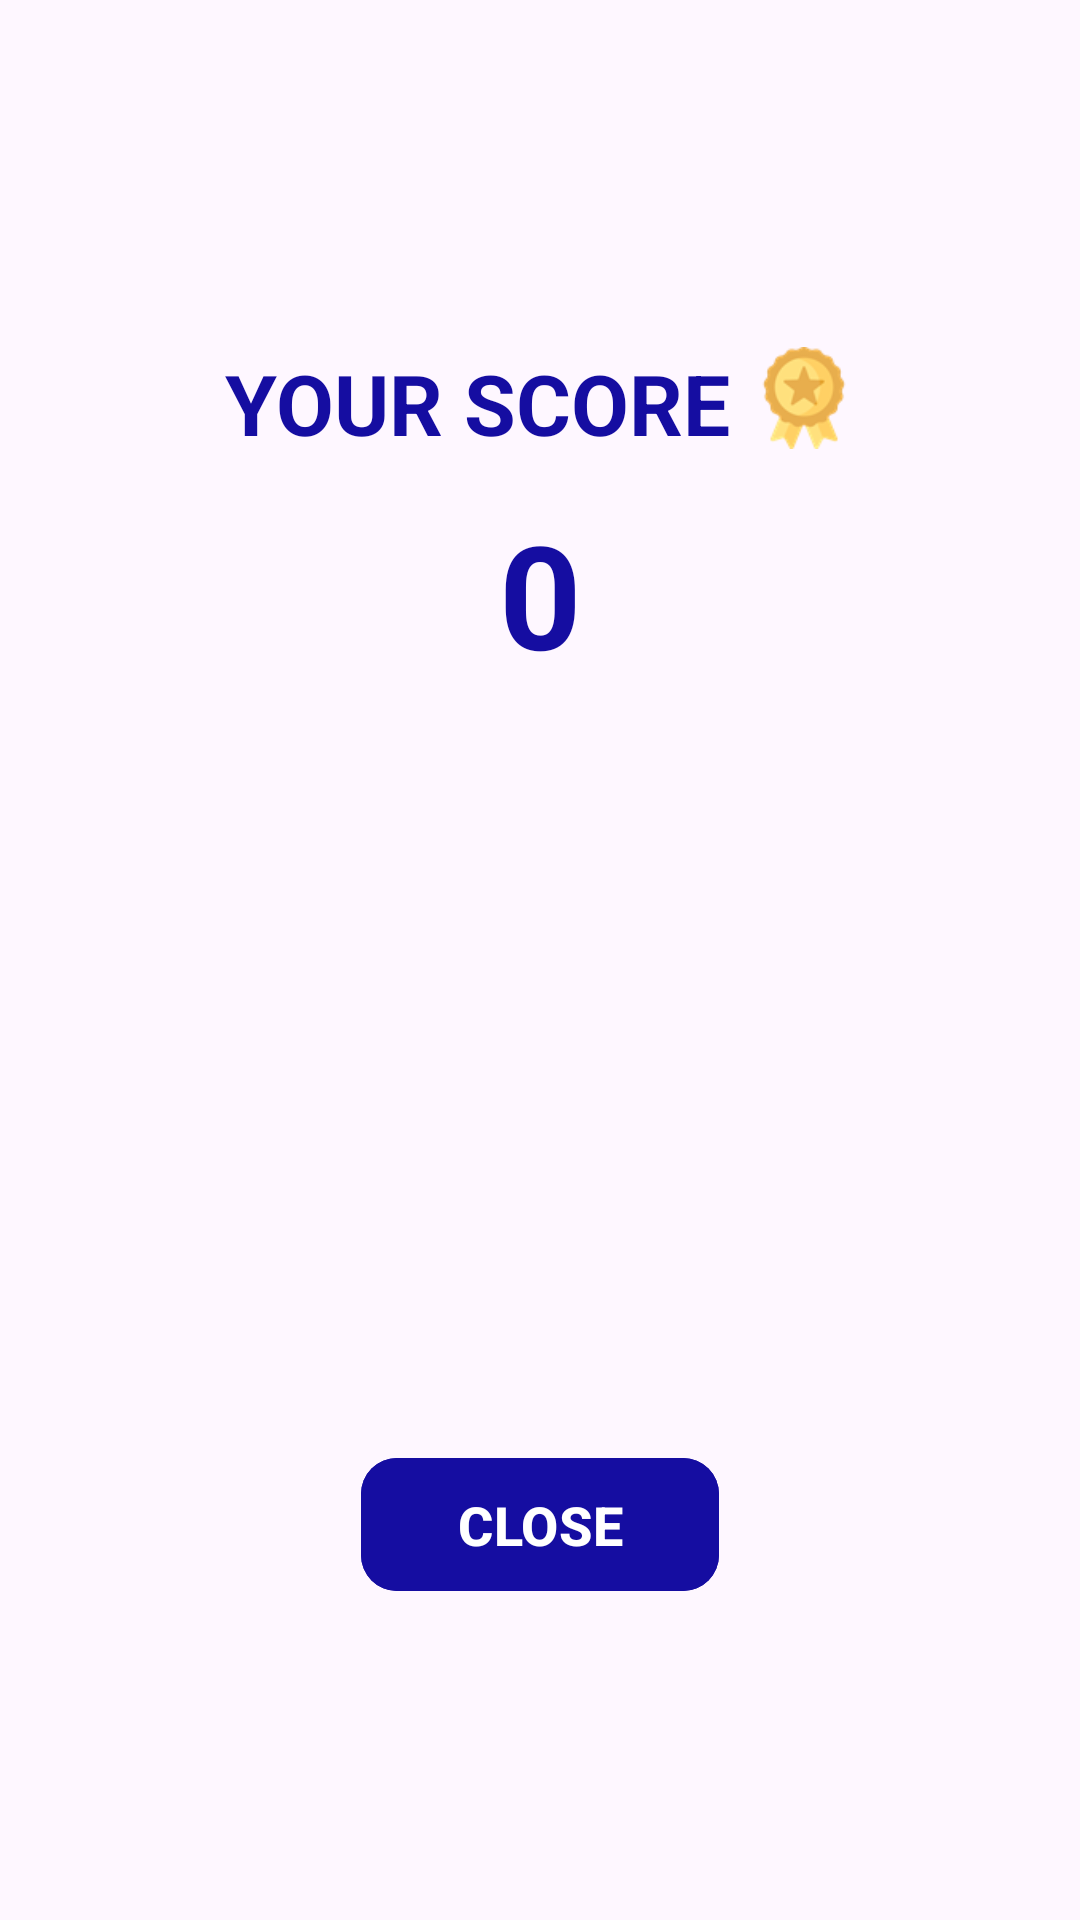

Icon click points for this 1080 x 1920 phone screenshot, format point (x, y):
badge: point (804, 398)
